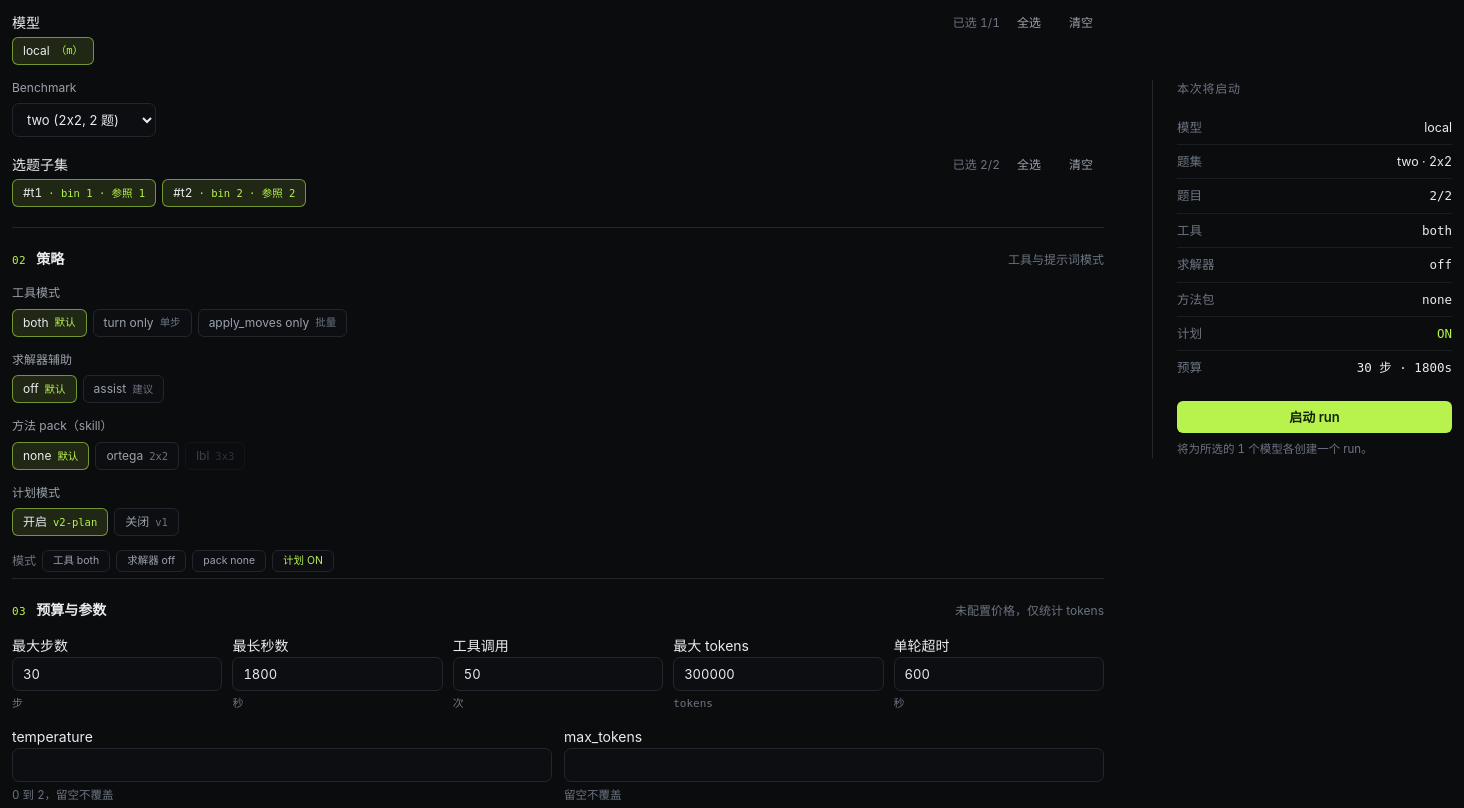
Test: NewRunView › rejects max_tool_calls 清空 before starting a run
(page scrolled)
Clear the number field named "max_tool_calls": (558, 674) top-left (453, 657), bottom-right (663, 691)
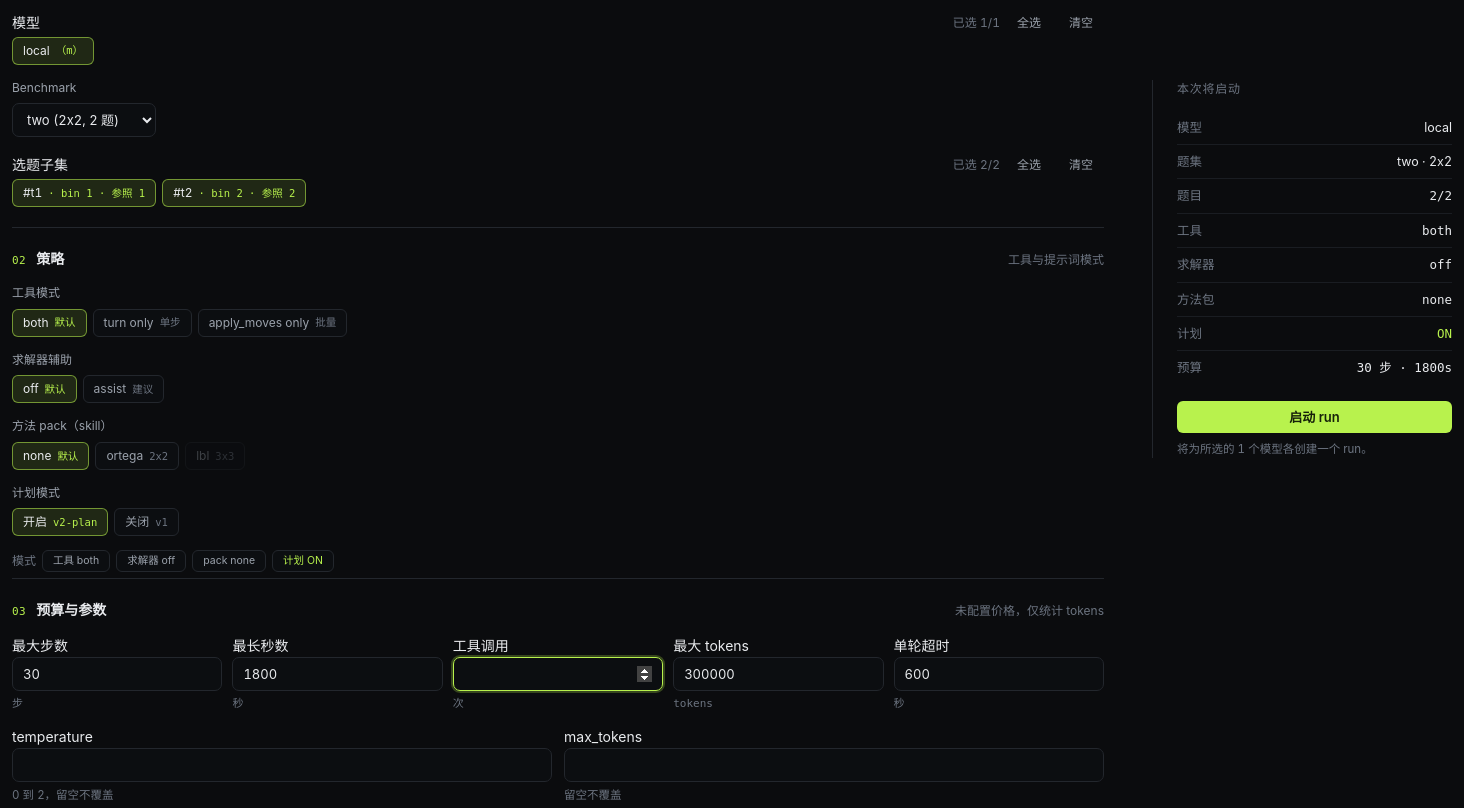
Click the button "启动 run": (1314, 417) top-left (1177, 401), bottom-right (1452, 433)
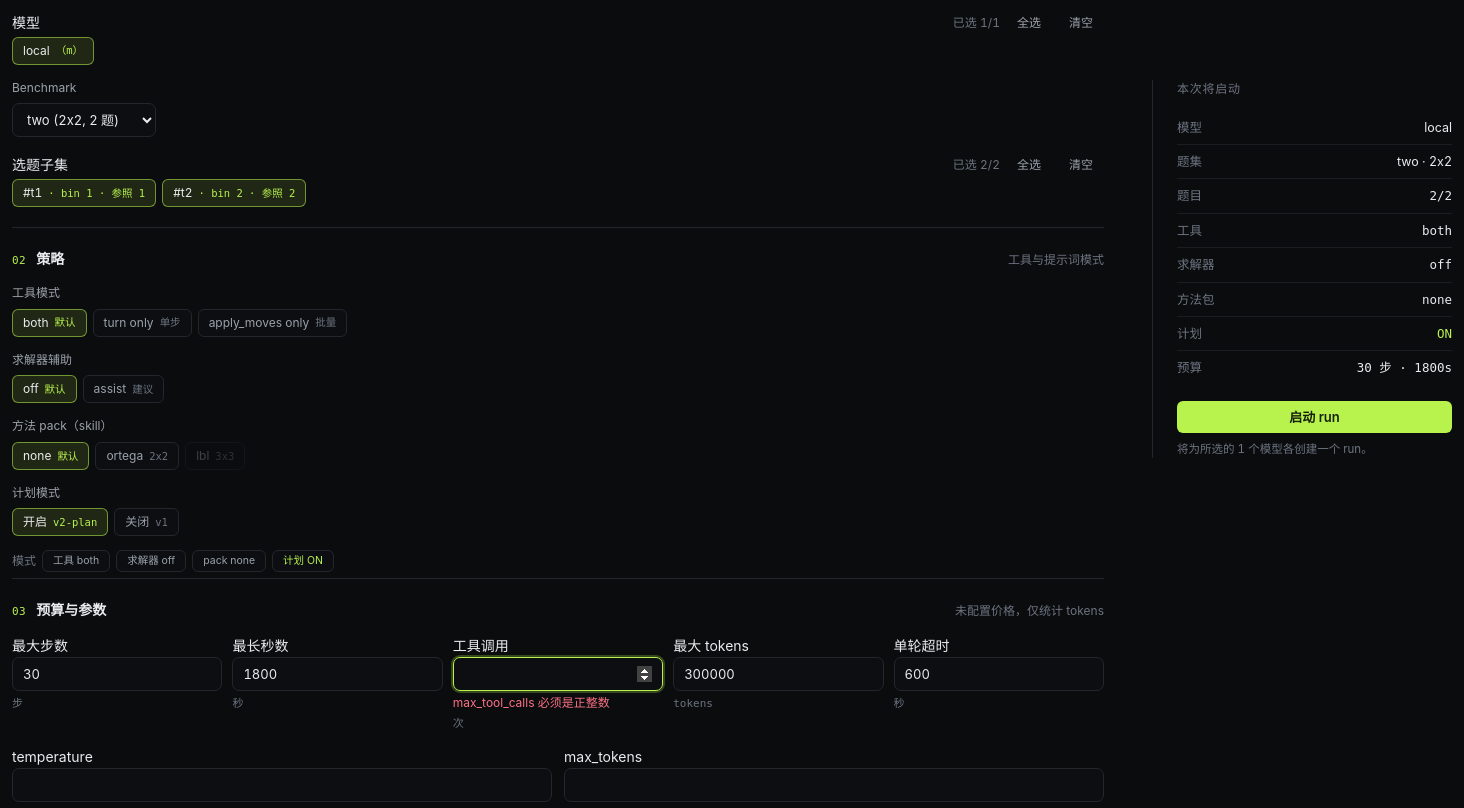
Result: the text "max_tool_calls 必须是正整数" is shown at top-left (453, 695), bottom-right (610, 710)
